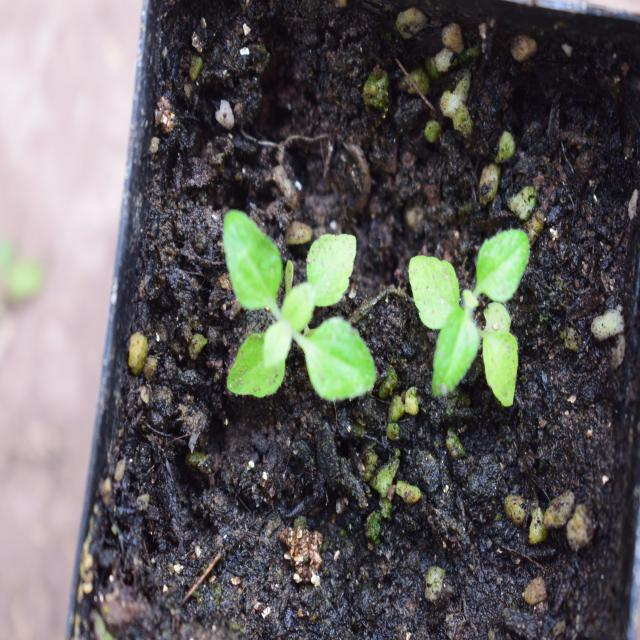billygoat_weed: (217, 205, 382, 438), (412, 186, 531, 419)
